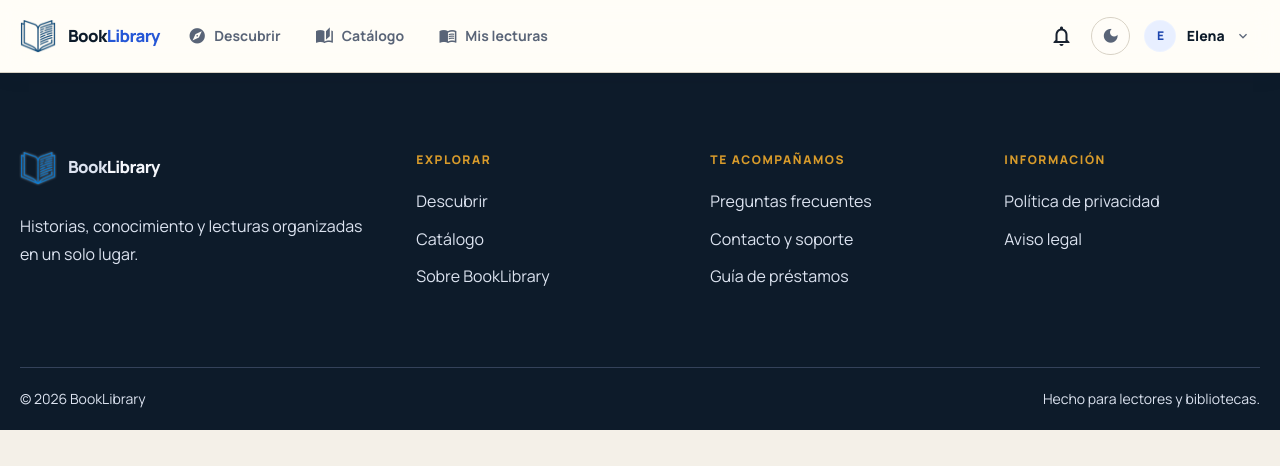
Test: ReaderShellComponent › shows staff only the public destinations and a return to their panel
Click the button with class "account-menu__trigger": x=1199, y=36 [1138,14,1260,58]
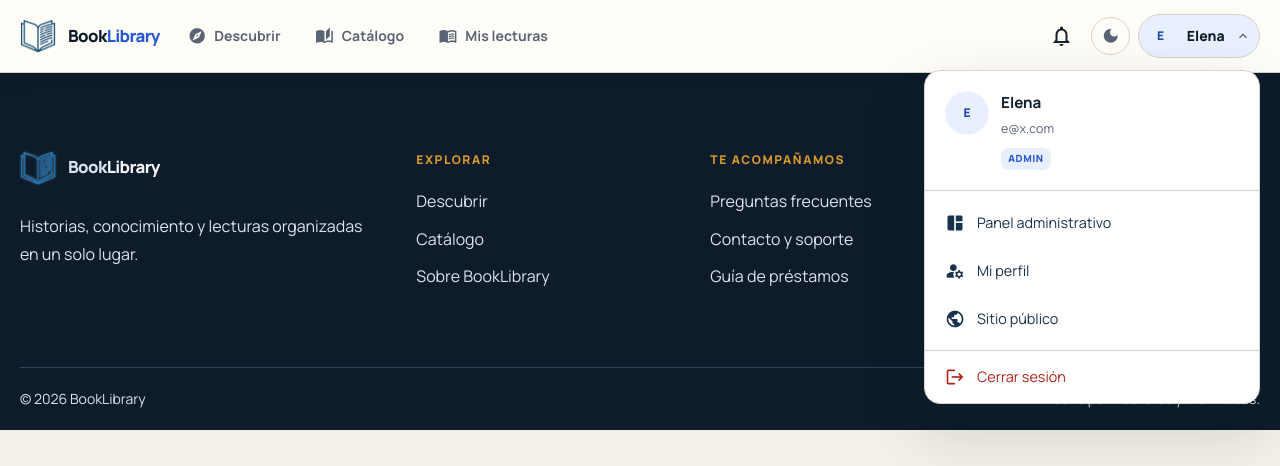
Expected: the text "Descubrir" is shown, [214,25,281,47]
Now the text "Panel" is shown, box [977,213,1111,232]
